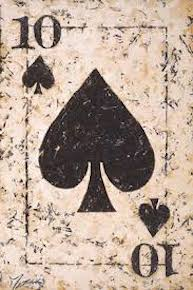TenOfSpades: (2, 1, 192, 288)
